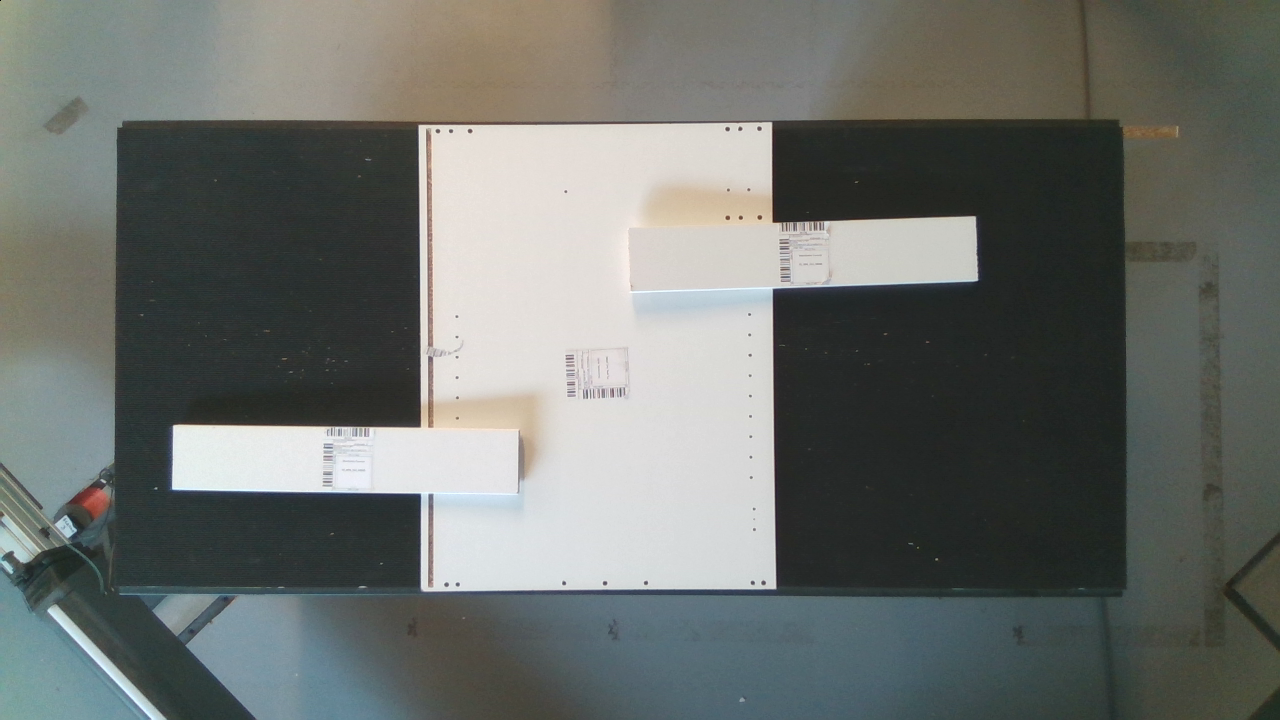barcode: (310, 411, 388, 499), (766, 216, 846, 293), (561, 342, 638, 403)
part1: (613, 211, 1018, 316), (153, 413, 535, 516)
part2: (398, 121, 801, 602)
